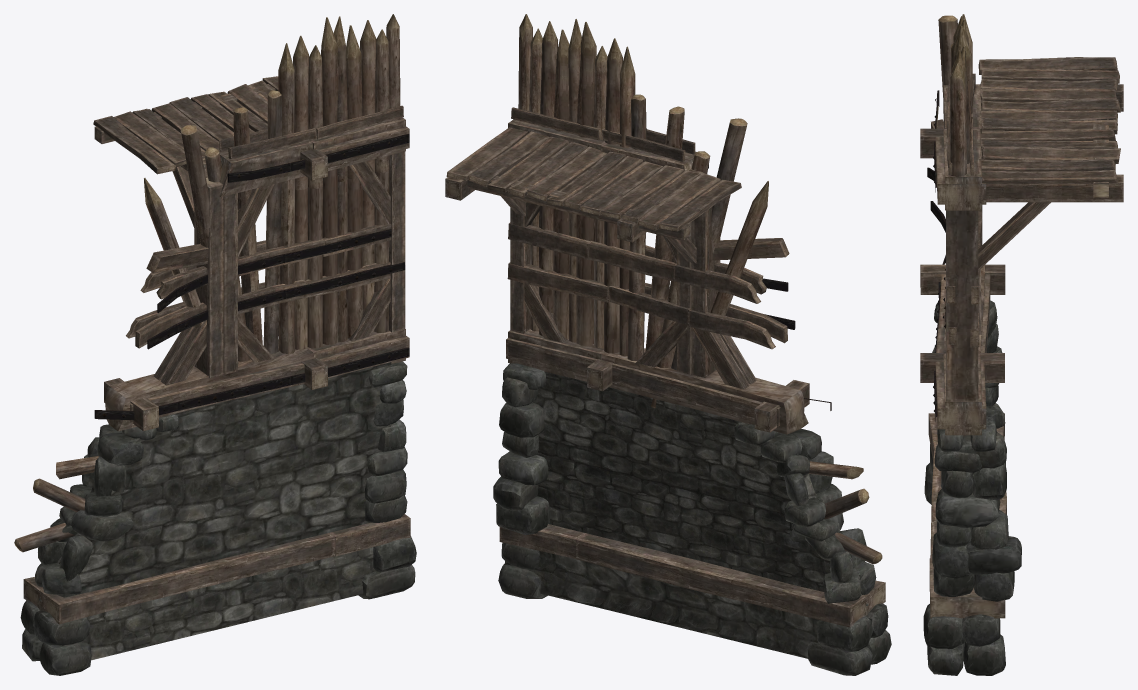
The model's file is jav_struc_def_truestone_walla_brknB-transformed.glb.
3 views of the same model, side by side, from view 1: azimuth 30°, elevation 25°; view 2: azimuth 150°, elevation 25°; view 3: azimuth 270°, elevation 25° (orthographic). The views are drawn at different scales.
Parts seen in each view (by area): view 1: default; view 2: default; view 3: default.
Boxes of the visible parts, box(x1,y1,x2,y2) form: default: box(14, 14, 416, 675); default: box(445, 14, 891, 675); default: box(920, 14, 1123, 675).
Size of the model in its own units: 8.73 by 12.74 by 3.78.
3 materials, 3 textured.
